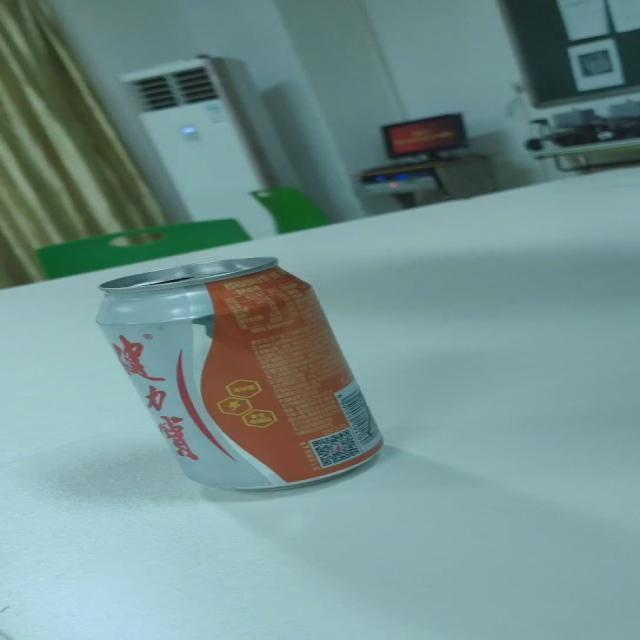can: (99, 260, 385, 496)
